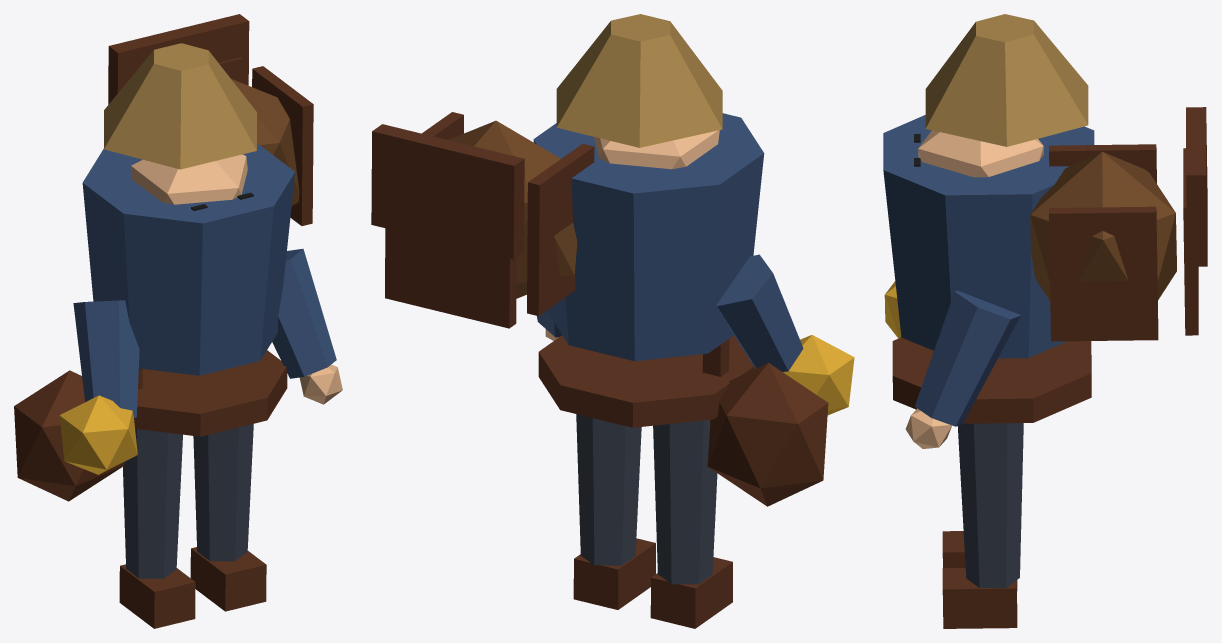
File: npcpose_merchant_greet_11.glb
3 views of the same model, side by side, from view 1: azimuth 30°, elevation 25°; view 2: azimuth 150°, elevation 25°; view 3: azimuth 270°, elevation 25° (orthographic). The views are drawn at different scales.
Parts seen in each view (by area): view 1: npcpose; view 2: npcpose; view 3: npcpose.
Part boxes in pixels (box(x1,y1,x2,y2)): npcpose: box(14, 14, 342, 628); npcpose: box(371, 14, 854, 628); npcpose: box(883, 14, 1207, 628).
Size of the model in its own units: 1.2 by 1.88 by 0.9658.
